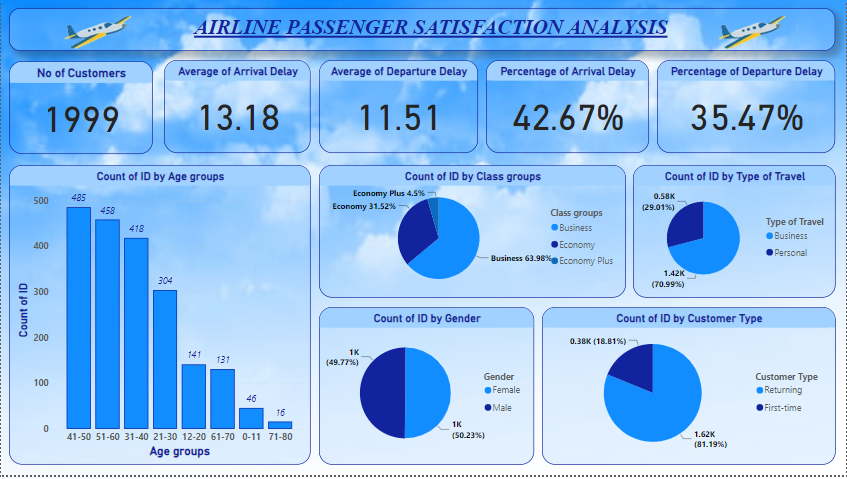

Layout of this report page (visuals, bound fields, positions):
{"tool":"powerbi","page":{"name":"Page 1","canvas":[1280,720],"ordinal":0},"visuals":[{"type":"textbox","box":[12.4,12.4,1252.2,64.8],"z":0},{"type":"image","box":[30.9,0,237.8,91.1],"z":1000},{"type":"image","box":[1039.1,0,202.3,91.1],"z":2000},{"type":"card","title":"No of Customers","fields":{"Values":["Airlines.No of Customer"]},"box":[12.4,92.6,217.7,140.5],"z":3000},{"type":"card","title":"Average of Arrival Delay","fields":{"Values":["Avg(Airlines.Arrival Delay)"]},"box":[247,91.1,222.3,140.5],"z":4000},{"type":"card","title":"Average of Departure Delay","fields":{"Values":["Avg(Airlines.Departure Delay)"]},"box":[481.7,91.1,240.9,140.5],"z":5000},{"type":"card","title":"Percentage of Arrival Delay","fields":{"Values":["Airlines.% of Arrival delay"]},"box":[735,91.1,247,140.5],"z":6000},{"type":"card","title":"Percentage of Departure Delay","fields":{"Values":["Airlines.% of departure delay"]},"box":[994.4,91.1,270.2,140.5],"z":7000},{"type":"pieChart","fields":{"Y":["CountNonNull(Airlines.ID)"],"Category":["Airlines.Type of Travel"]},"box":[957.3,250.1,307.3,200.7],"z":8000},{"type":"pieChart","fields":{"Y":["CountNonNull(Airlines.ID)"],"Category":["Airlines.Customer Type"]},"box":[819.9,464.8,444.7,239.3],"z":9000},{"type":"pieChart","fields":{"Y":["CountNonNull(Airlines.ID)"],"Category":["Airlines.Gender"]},"box":[481.7,464.8,325.8,239.3],"z":10000},{"type":"pieChart","fields":{"Category":["Airlines.Class groups"],"Y":["CountNonNull(Airlines.ID)"]},"box":[481.7,250.1,464.8,200.7],"z":11000},{"type":"clusteredColumnChart","fields":{"Category":["Airlines.Age groups"],"Y":["CountNonNull(Airlines.ID)"]},"box":[0,265.8,457.1,454.3],"z":12000}]}

Visuals, with their boxes in screenshot pixels (x1, y1, x2, y2), scaled from the page's 1280x720 canvas onto the 847x479 screenshot:
textbox: (8, 8, 837, 51)
image: (20, 0, 178, 61)
image: (688, 0, 821, 61)
"No of Customers" card: (8, 62, 152, 155)
"Average of Arrival Delay" card: (163, 61, 311, 154)
"Average of Departure Delay" card: (319, 61, 478, 154)
"Percentage of Arrival Delay" card: (486, 61, 650, 154)
"Percentage of Departure Delay" card: (658, 61, 837, 154)
pieChart - CountNonNull(Airlines.ID) x Airlines.Type of Travel: (633, 166, 837, 300)
pieChart - CountNonNull(Airlines.ID) x Airlines.Customer Type: (543, 309, 837, 468)
pieChart - CountNonNull(Airlines.ID) x Airlines.Gender: (319, 309, 534, 468)
pieChart - Airlines.Class groups x CountNonNull(Airlines.ID): (319, 166, 626, 300)
clusteredColumnChart - Airlines.Age groups x CountNonNull(Airlines.ID): (0, 177, 302, 478)
